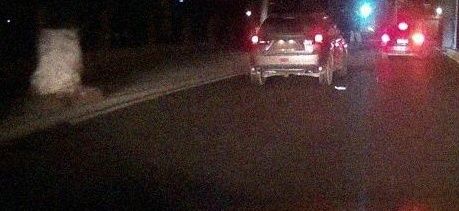L_light: (250, 36, 273, 46), (382, 35, 392, 41)
R_light: (305, 33, 327, 43), (413, 34, 423, 40)
T_light: (283, 18, 297, 21), (398, 24, 408, 28)
night-no: (249, 11, 329, 85)
night-right: (381, 21, 425, 60)
